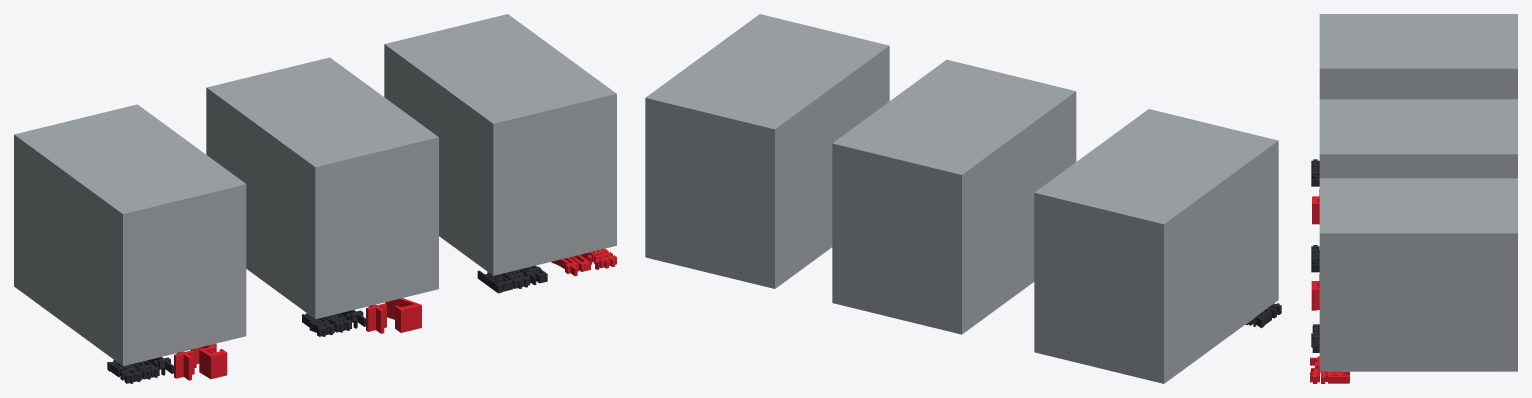
The model's file is tinker.obj.
3 views of the same model, side by side, from view 1: azimuth 30°, elevation 25°; view 2: azimuth 150°, elevation 25°; view 3: azimuth 270°, elevation 25° (orthographic). The views are drawn at different scales.
Visible parts, largest first — view 1: obj_0, obj_12, obj_24, obj_14, obj_2, obj_25, obj_1, obj_13, obj_26; view 2: obj_0, obj_12, obj_24; view 3: obj_24, obj_0, obj_12, obj_26, obj_14, obj_1, obj_13, obj_25, obj_2.
Boxes of the visible parts, <box> form: obj_0: <box>14,104,246,366</box>; obj_12: <box>206,57,438,319</box>; obj_24: <box>384,14,616,275</box>; obj_14: <box>366,298,421,333</box>; obj_2: <box>174,343,227,380</box>; obj_25: <box>477,265,547,293</box>; obj_1: <box>107,357,173,383</box>; obj_13: <box>302,310,366,336</box>; obj_26: <box>551,248,616,275</box>; obj_0: <box>1034,109,1278,383</box>; obj_12: <box>832,59,1076,334</box>; obj_24: <box>645,14,889,288</box>; obj_24: <box>1319,178,1517,371</box>; obj_0: <box>1319,14,1517,99</box>; obj_12: <box>1319,99,1517,178</box>; obj_26: <box>1310,356,1349,383</box>; obj_14: <box>1311,274,1319,310</box>; obj_1: <box>1311,159,1319,186</box>; obj_13: <box>1311,245,1319,272</box>; obj_25: <box>1311,324,1319,352</box>; obj_2: <box>1312,189,1319,224</box>.
Bounding box in the file's own units: 68.01 × 24 × 27.26.
